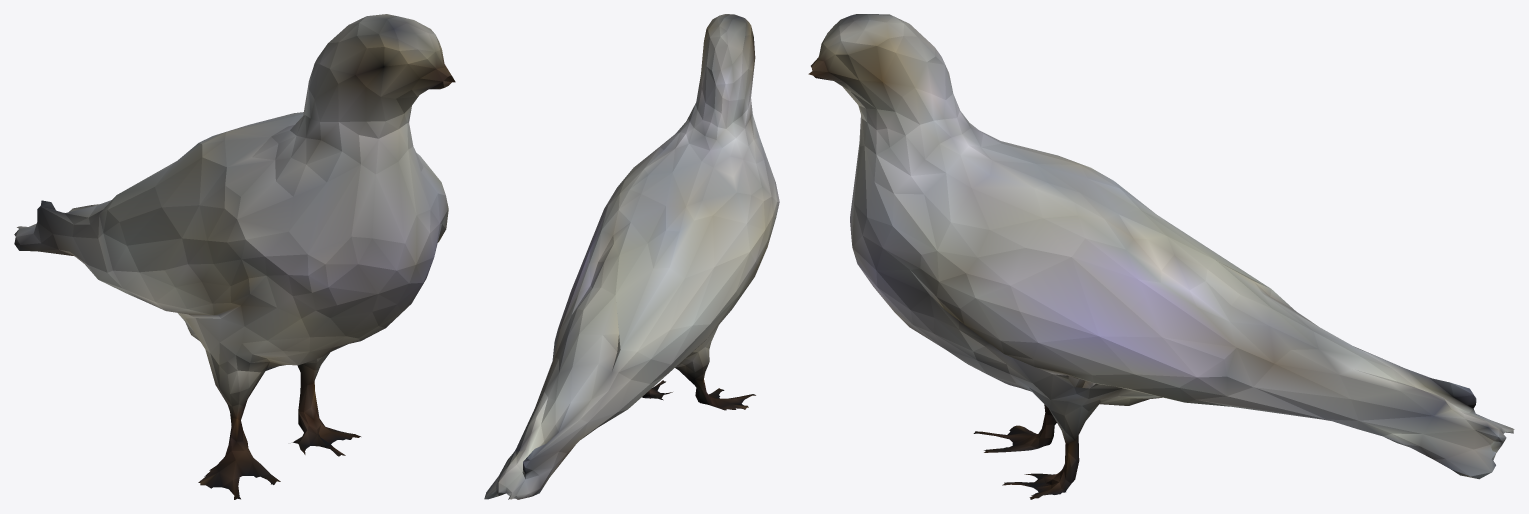
The model's file is birb.dae.
The picture shows the model from 3 angles, left to right: view 1: azimuth 30°, elevation 25°; view 2: azimuth 150°, elevation 25°; view 3: azimuth 270°, elevation 25°; orthographic projection. The views are drawn at different scales.
Parts seen in each view (by area): view 1: голубь римский белый_lowpoly; view 2: голубь римский белый_lowpoly; view 3: голубь римский белый_lowpoly.
Boxes of the visible parts, x1,y1,x2,y2 form: голубь римский белый_lowpoly: (14,14,455,499); голубь римский белый_lowpoly: (484,14,779,499); голубь римский белый_lowpoly: (808,14,1514,499).
Size of the model in its own units: 0.2596 by 0.7702 by 0.5545.
